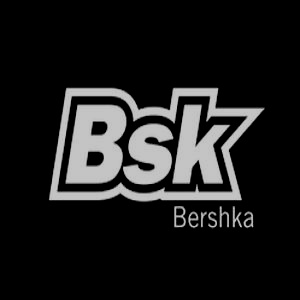bershka: (244, 40, 285, 120)
